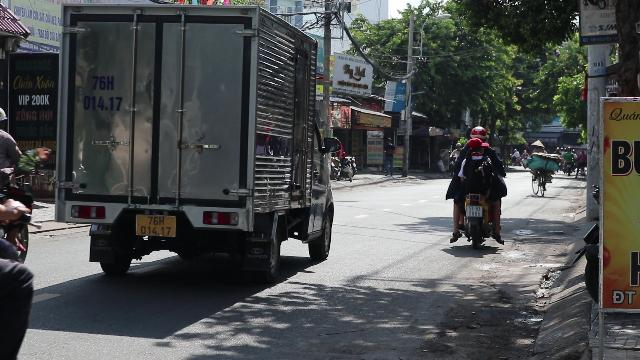helmet: (468, 126, 488, 140)
licenseplate: (466, 206, 482, 216)
motorcyclist: (444, 125, 508, 250)
nohelmet: (467, 138, 487, 154)
